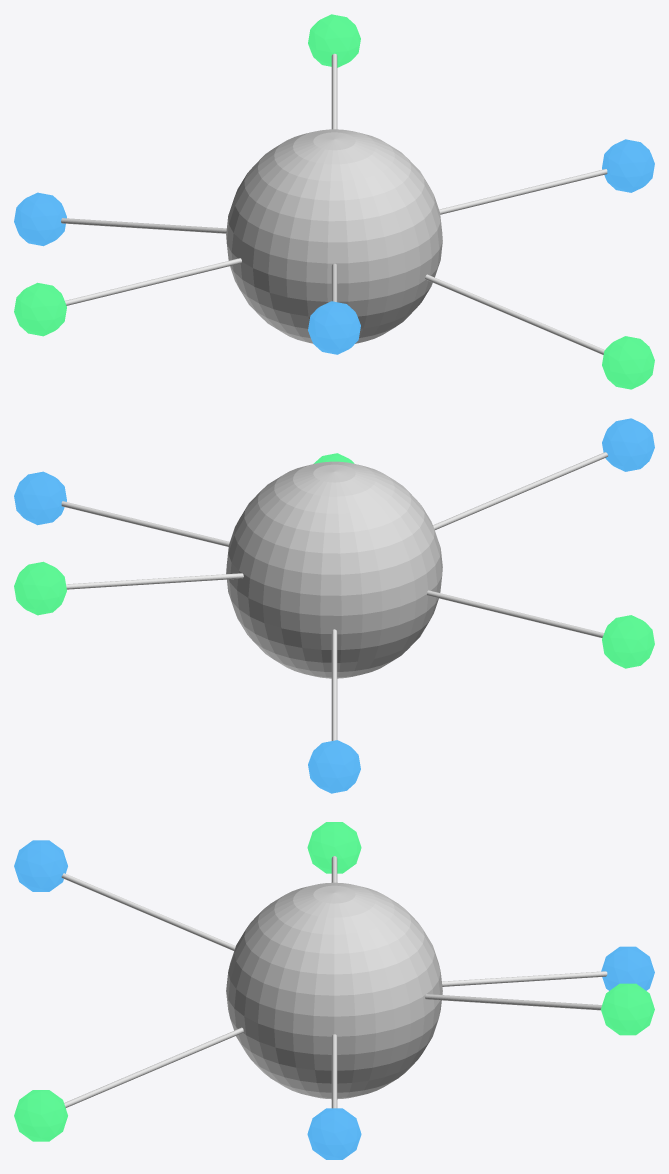
The model's file is network_assembly.glb.
3 renders of one model, top to bottom at view 1: azimuth 30°, elevation 25°; view 2: azimuth 150°, elevation 25°; view 3: azimuth 270°, elevation 25°, orthographic.
Parts seen in each view (by area): view 1: NetworkCore, NetworkNode_4, NetworkNode_5, NetworkNode_3, NetworkNode_0, NetworkNode_2, NetworkNode_1, NetworkConnection_5, NetworkConnection_3, NetworkConnection_0, NetworkConnection_2; view 2: NetworkCore, NetworkNode_3, NetworkNode_2, NetworkNode_1, NetworkNode_4, NetworkNode_0, NetworkConnection_4, NetworkConnection_3, NetworkConnection_1, NetworkConnection_0, NetworkConnection_2; view 3: NetworkCore, NetworkNode_1, NetworkNode_5, NetworkNode_0, NetworkNode_4, NetworkNode_3, NetworkNode_2, NetworkConnection_5, NetworkConnection_4, NetworkConnection_1, NetworkConnection_2, NetworkConnection_0.
Part boxes in pixels (x1,y1,x2,y2): NetworkCore: (226,129,442,343); NetworkNode_4: (308,301,360,354); NetworkNode_5: (602,336,654,389); NetworkNode_3: (14,282,66,336); NetworkNode_0: (602,139,654,192); NetworkNode_2: (14,192,66,246); NetworkNode_1: (308,14,360,67); NetworkConnection_5: (425,274,604,354); NetworkConnection_3: (65,258,241,305); NetworkConnection_0: (439,169,607,214); NetworkConnection_2: (61,218,226,233); NetworkCore: (226,461,442,678); NetworkNode_3: (602,615,654,668); NetworkNode_2: (308,740,360,793); NetworkNode_1: (14,561,66,615); NetworkNode_4: (602,418,654,471); NetworkNode_0: (14,471,66,525); NetworkConnection_4: (433,452,608,529); NetworkConnection_3: (427,590,603,637); NetworkConnection_1: (66,573,243,589); NetworkConnection_0: (61,501,229,546); NetworkConnection_2: (331,629,337,740); NetworkCore: (226,882,442,1099); NetworkNode_1: (601,983,654,1035); NetworkNode_5: (14,1090,67,1141); NetworkNode_0: (307,1108,361,1159); NetworkNode_4: (14,840,67,891); NetworkNode_3: (307,822,361,873); NetworkNode_2: (601,946,654,990); NetworkConnection_5: (64,1027,243,1107); NetworkConnection_4: (61,873,235,950); NetworkConnection_1: (425,994,601,1010); NetworkConnection_2: (442,971,607,986); NetworkConnection_0: (331,1034,337,1108).
Bounding box in the file's own units: 5.38 × 1.6 × 4.73.
